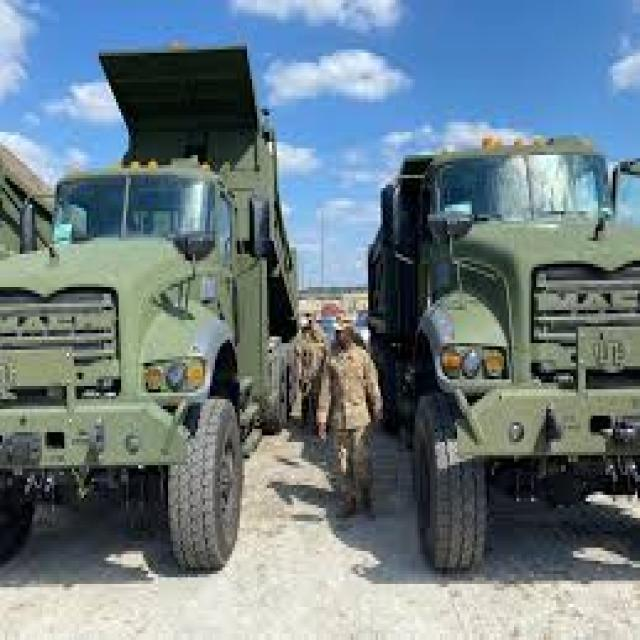dump_truck: (1, 29, 300, 582), (354, 126, 640, 600)
